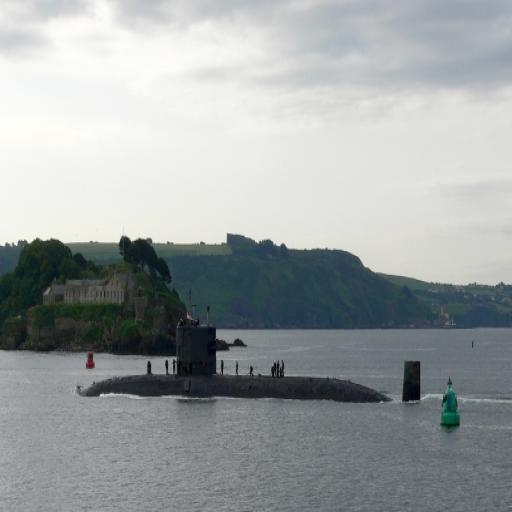submarine: (74, 321, 431, 398)
